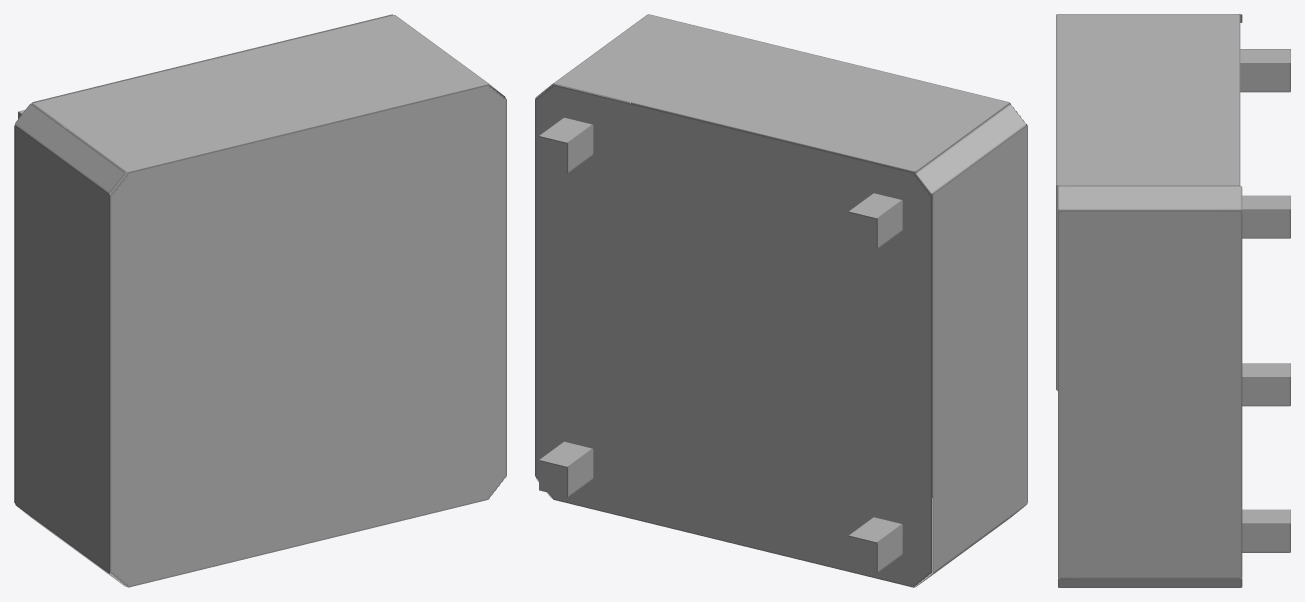
Rendered from pz_benche_seating_indoor_01_orange.obj.
3 views of the same model, side by side, from view 1: azimuth 30°, elevation 25°; view 2: azimuth 150°, elevation 25°; view 3: azimuth 270°, elevation 25° (orthographic). The views are drawn at different scales.
Bounding box in the file's own units: 0.82 × 0.82 × 0.4338.
1 material, 1 textured.
